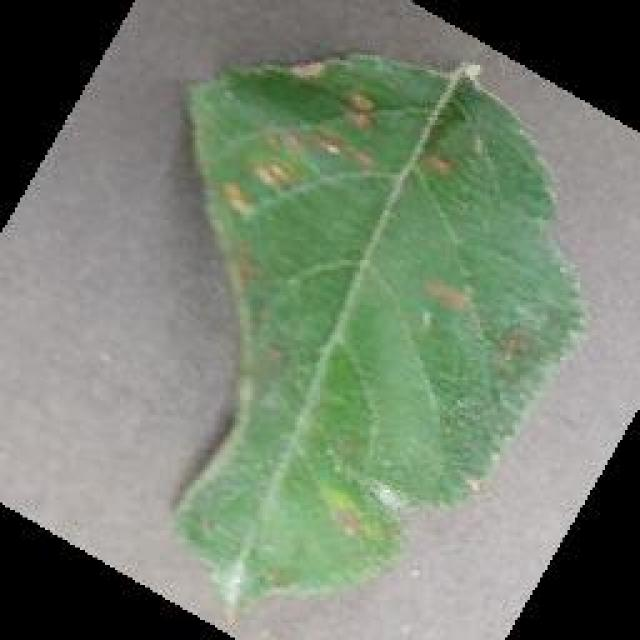apple rust disease: (168, 47, 590, 615)
